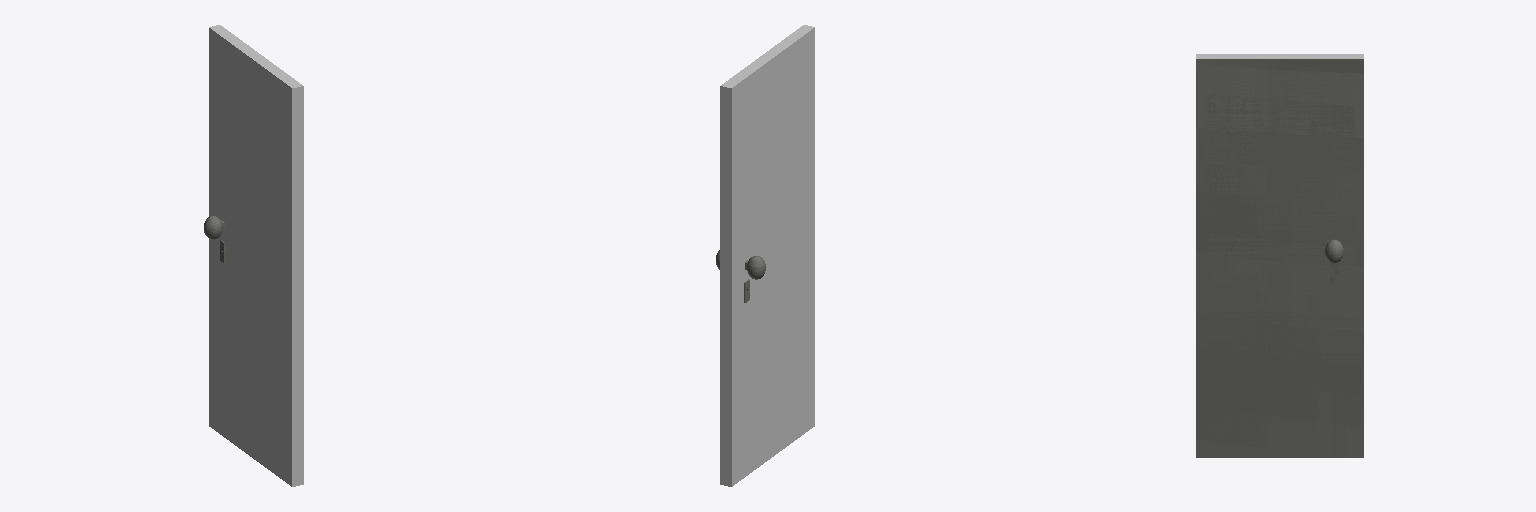
3 renders of one model, left to right at view 1: azimuth 30°, elevation 25°; view 2: azimuth 150°, elevation 25°; view 3: azimuth 270°, elevation 25°, orthographic.
Visible parts, largest first — view 1: MarcoPuerta_interior_MarcoPuerta_Cube; view 2: MarcoPuerta_interior_MarcoPuerta_Cube, Puerta_interior.001_Puerta_Cube.001; view 3: MarcoPuerta_interior_MarcoPuerta_Cube, Puerta_interior.001_Puerta_Cube.001.
Part boxes in pixels (left/top/right/bottom): MarcoPuerta_interior_MarcoPuerta_Cube: left=209, top=25, right=303, bottom=486; MarcoPuerta_interior_MarcoPuerta_Cube: left=720, top=25, right=814, bottom=486; Puerta_interior.001_Puerta_Cube.001: left=716, top=250, right=765, bottom=302; MarcoPuerta_interior_MarcoPuerta_Cube: left=1196, top=54, right=1363, bottom=457; Puerta_interior.001_Puerta_Cube.001: left=1325, top=239, right=1343, bottom=283.
Bounding box in the file's own units: 2.36 × 18.8 × 7.15.
Materials: 4 (2 with a texture image).